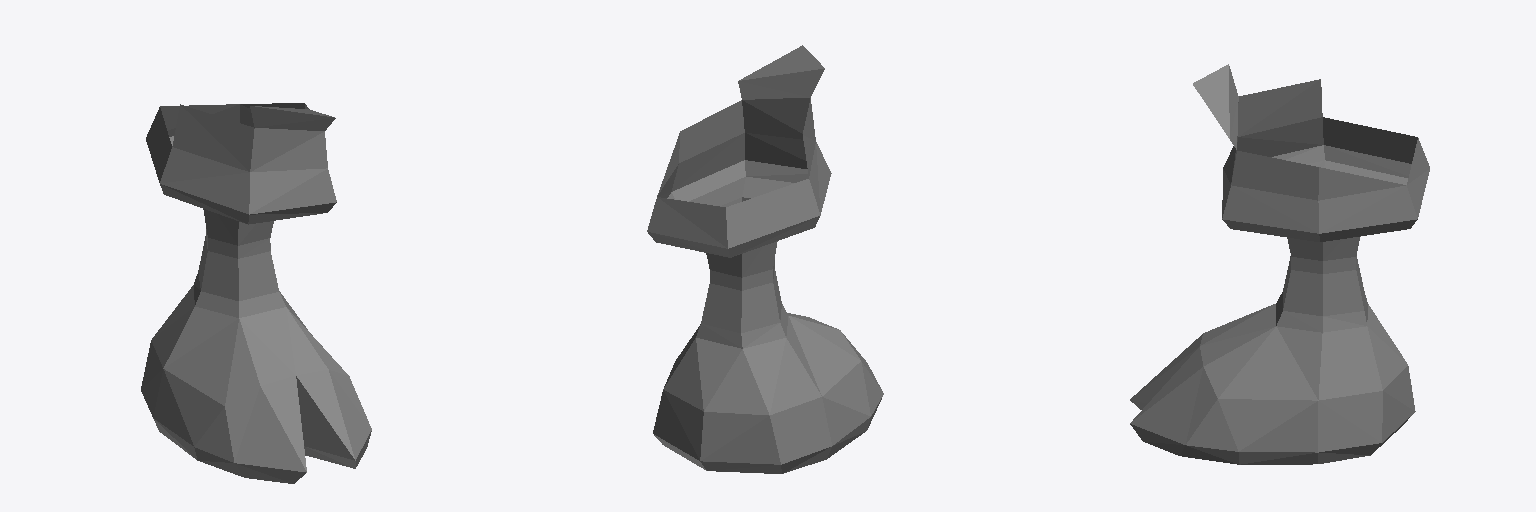
Rendered from chopper_pata_derecha.obj.
3 views of the same model, side by side, from view 1: azimuth 30°, elevation 25°; view 2: azimuth 150°, elevation 25°; view 3: azimuth 270°, elevation 25° (orthographic).
Visible parts, largest first — view 1: pata_derecha; view 2: pata_derecha; view 3: pata_derecha.
Part boxes in pixels (x1,y1,x2,y2): pata_derecha: (141,103,371,483); pata_derecha: (647,45,883,473); pata_derecha: (1130,64,1429,464).
Bounding box in the file's own units: 0.8327 × 1.68 × 1.3.